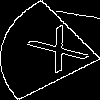X: (25, 25, 100, 82)
